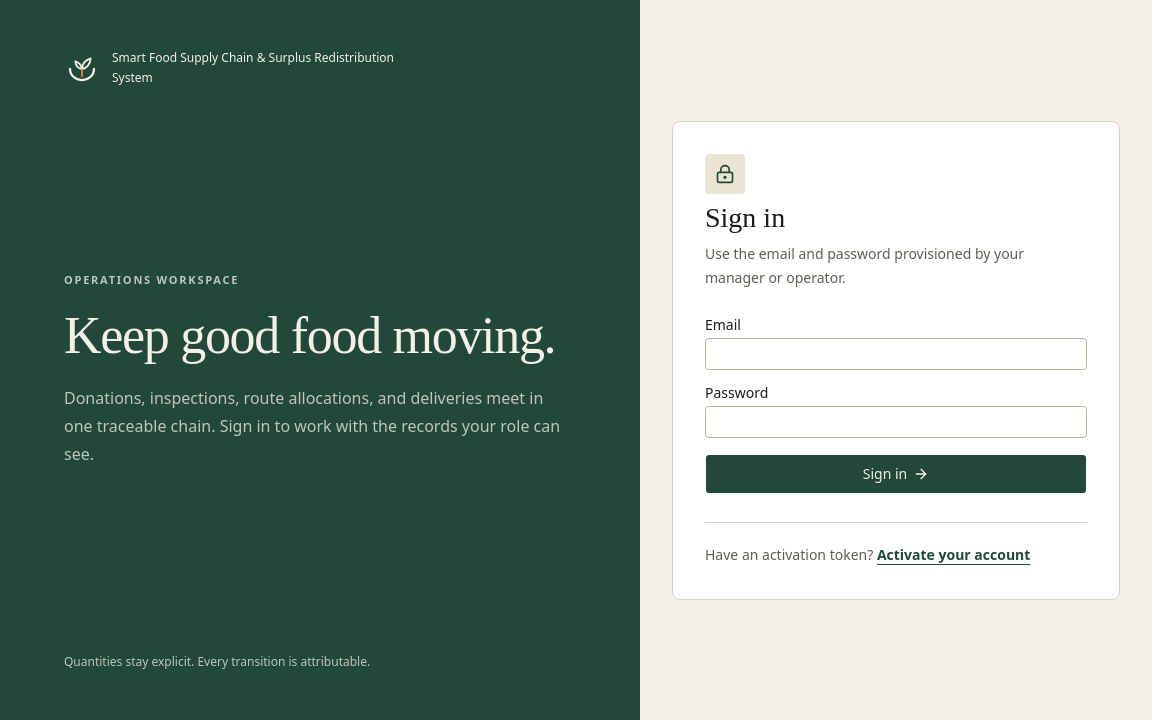
application shell › signs a provisioned user in through the real form flow
Type "donor.a@example.test" into the field labelled "Email" at (896, 354), box [705,338,1087,370]
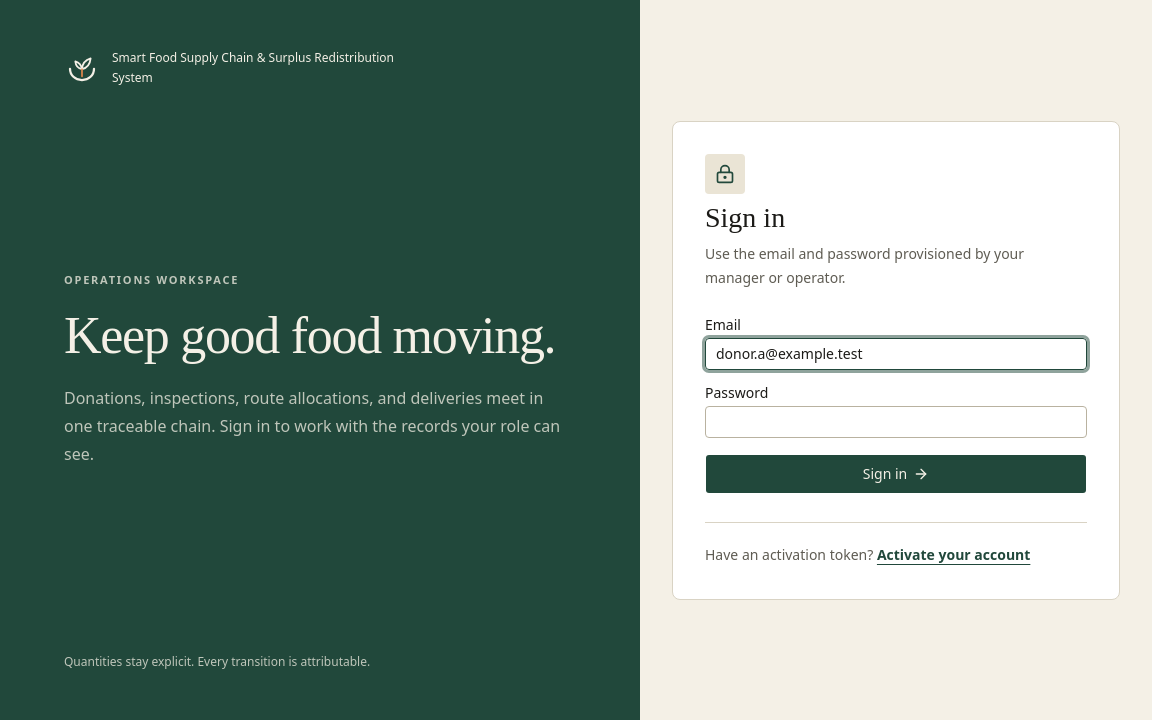
Type "TestPass!12345" into the password field labelled "Password" at (896, 422), box [705,406,1087,438]
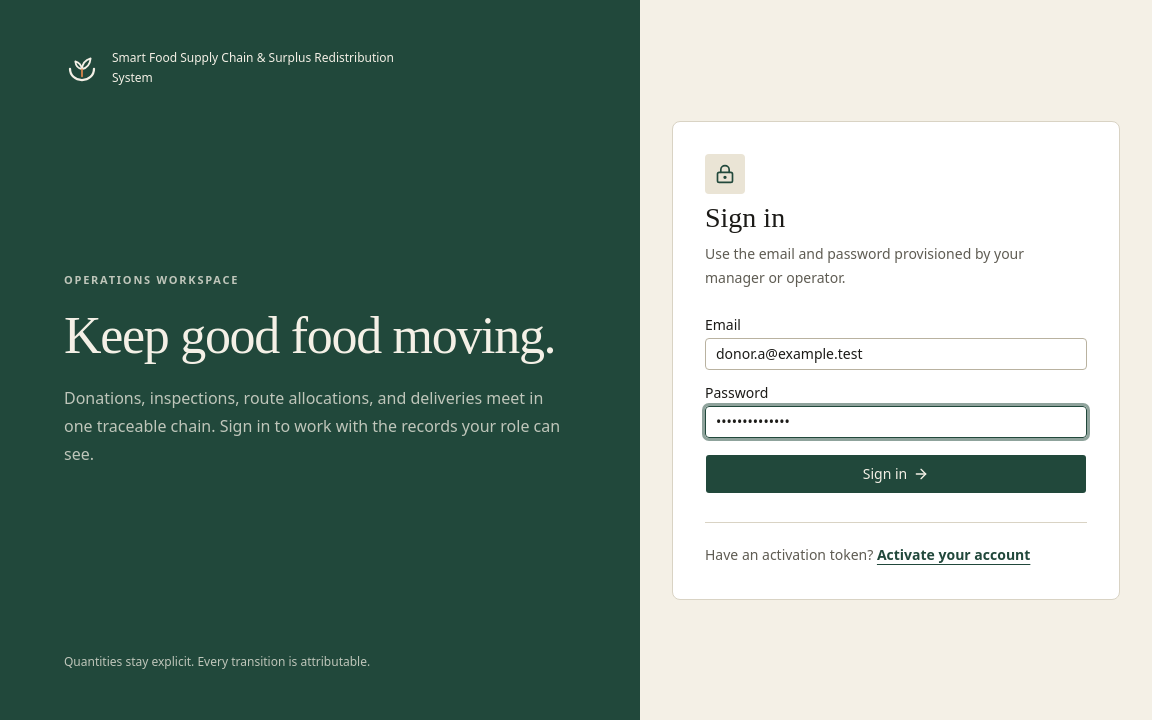
Click the button "Sign in" at (896, 474), box [705,454,1087,494]
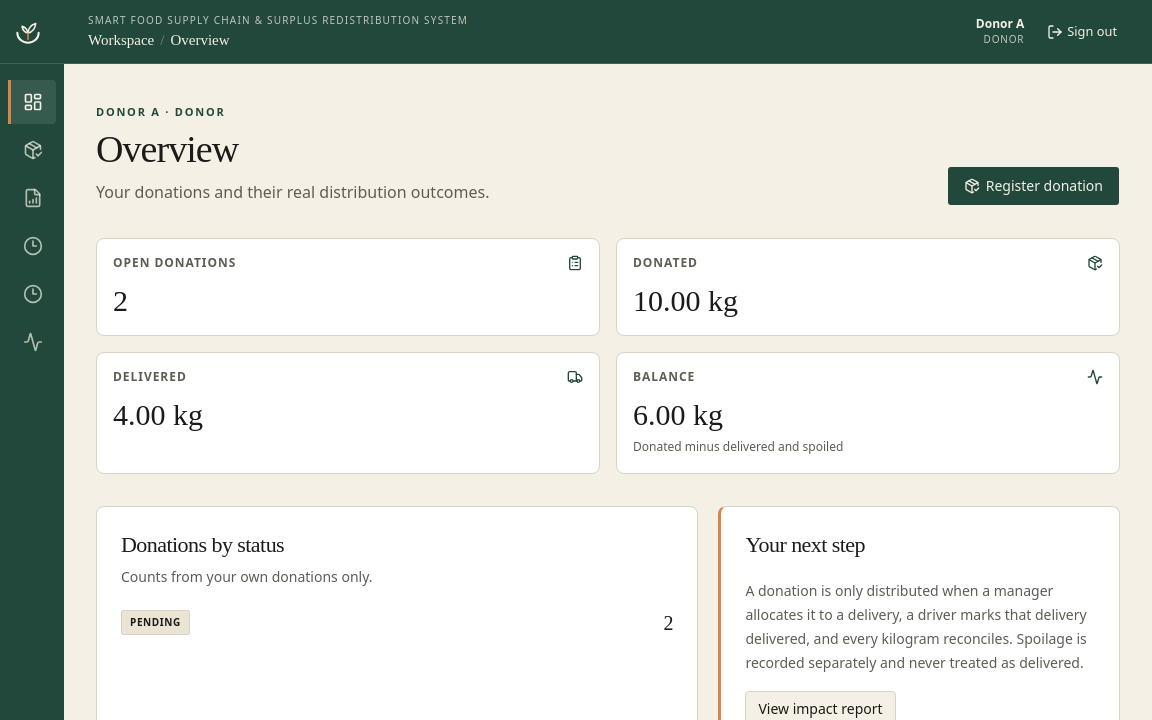
Expected: the heading "Overview" is shown, [96,128,238,170]
